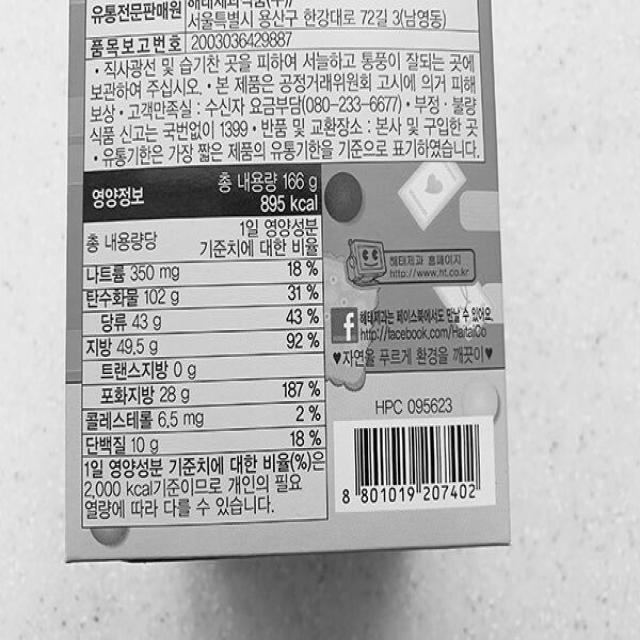Nutrition Label: (72, 151, 341, 540)
